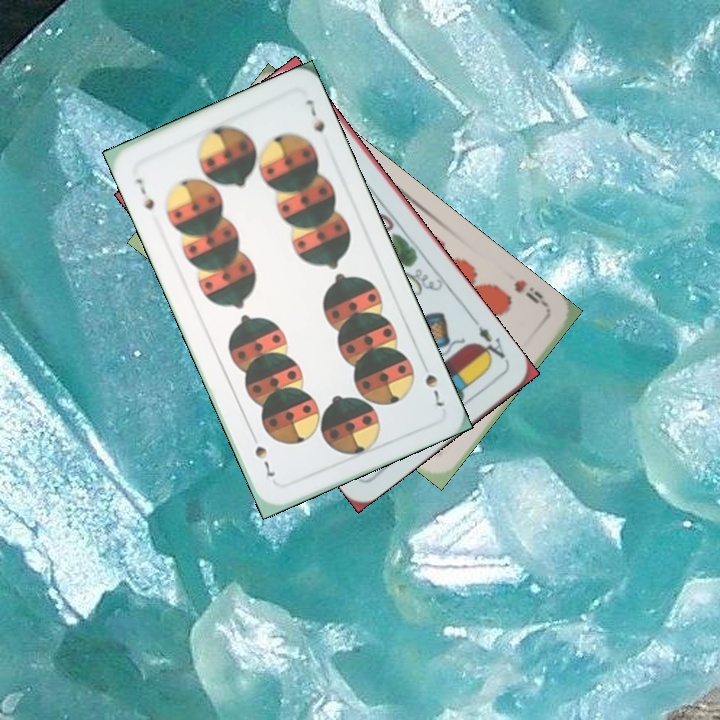EA: (470, 315, 512, 366)
H9: (509, 275, 552, 314)
S7: (421, 369, 447, 410), (131, 174, 157, 213)
